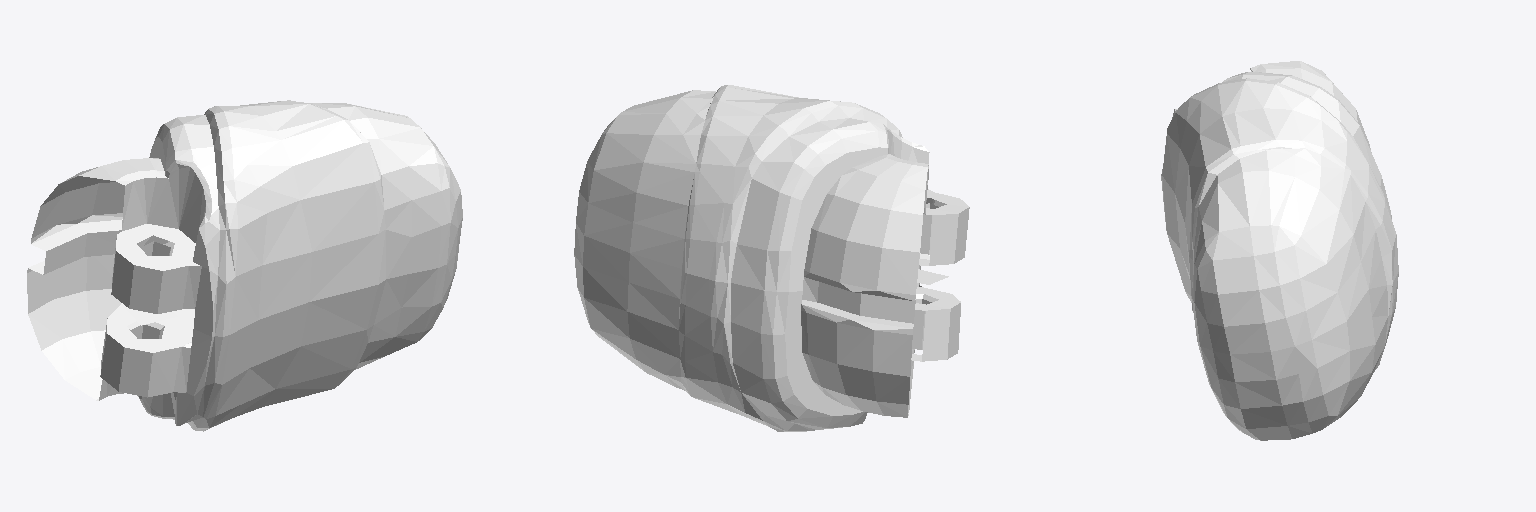
The picture shows the model from 3 angles: view 1: azimuth 30°, elevation 25°; view 2: azimuth 150°, elevation 25°; view 3: azimuth 270°, elevation 25°; orthographic projection.
Visible parts, largest first — view 1: LFinger13_LPhalax_3; view 2: LFinger13_LPhalax_3; view 3: LFinger13_LPhalax_3.
Boxes of the visible parts, <box> form: LFinger13_LPhalax_3: <box>27,100,462,431</box>; LFinger13_LPhalax_3: <box>574,85,969,431</box>; LFinger13_LPhalax_3: <box>1161,61,1398,440</box>.
Bounding box in the file's own units: 0.204 × 0.1613 × 0.1124.
1 materials, 1 textured.